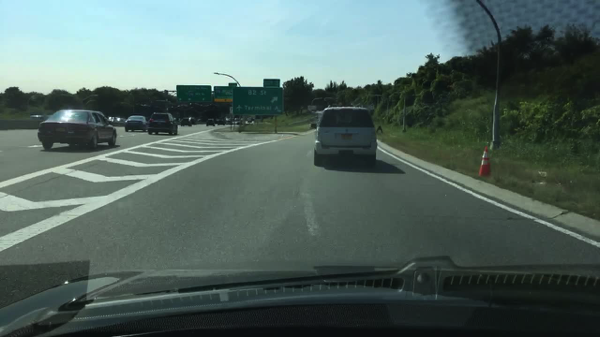car: (309, 106, 377, 167), (38, 109, 117, 151), (147, 111, 179, 136), (124, 115, 149, 133), (179, 117, 193, 126), (205, 118, 215, 128), (188, 117, 198, 126), (116, 116, 126, 124), (217, 118, 225, 126), (107, 115, 114, 124), (233, 118, 240, 125), (246, 118, 254, 124), (225, 119, 233, 125), (214, 119, 220, 126), (239, 118, 244, 125), (251, 117, 257, 121)
traffic sign: (231, 86, 284, 116), (176, 84, 212, 104), (212, 85, 234, 103), (262, 79, 280, 88), (307, 104, 316, 111), (227, 81, 236, 87)
